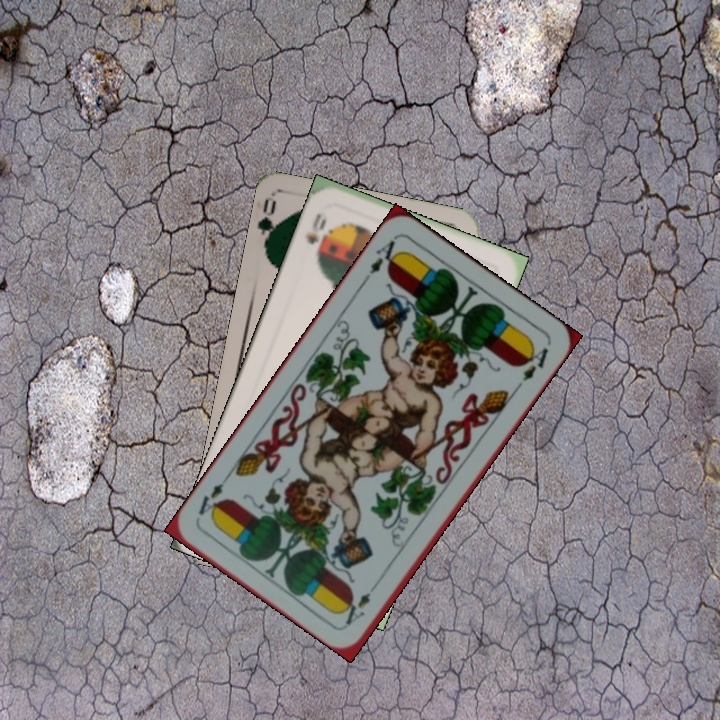EA: (359, 234, 402, 285), (341, 577, 382, 628)
GO: (255, 195, 284, 256)
SO: (301, 209, 329, 248)
